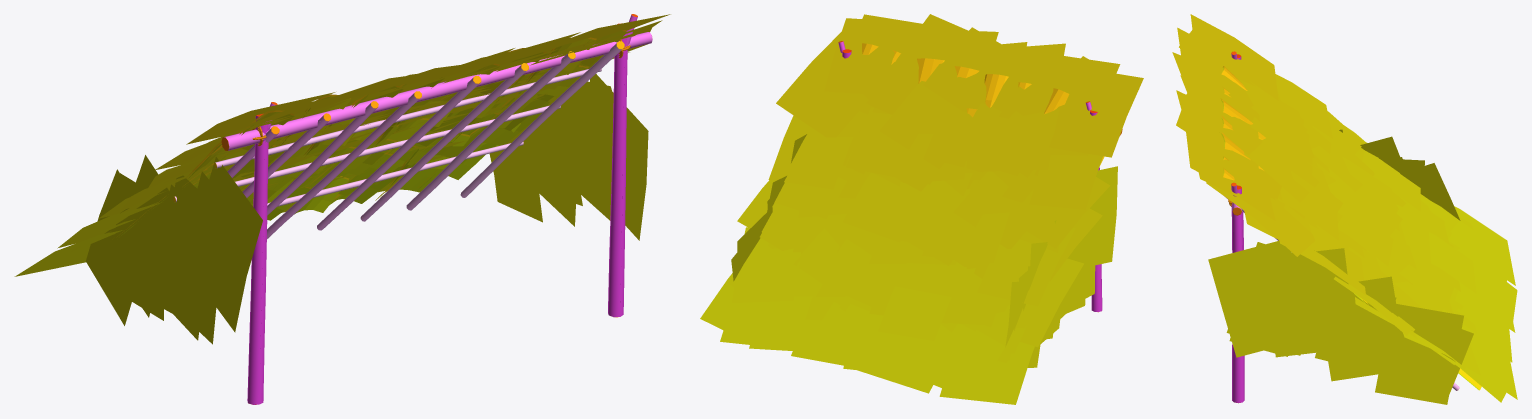
Rendered from camp_lean_to.glb.
The picture shows the model from 3 angles, left to right: view 1: azimuth 30°, elevation 25°; view 2: azimuth 150°, elevation 25°; view 3: azimuth 270°, elevation 25°; orthographic projection. The views are drawn at different scales.
Parts seen in each view (by area): view 1: Model; view 2: Model; view 3: Model.
Part boxes in pixels (box(x1,y1,x2,y2)): Model: box(14, 14, 670, 404); Model: box(700, 14, 1143, 404); Model: box(1172, 14, 1517, 404).
Size of the model in its own units: 3.82 by 2.49 by 3.11.
